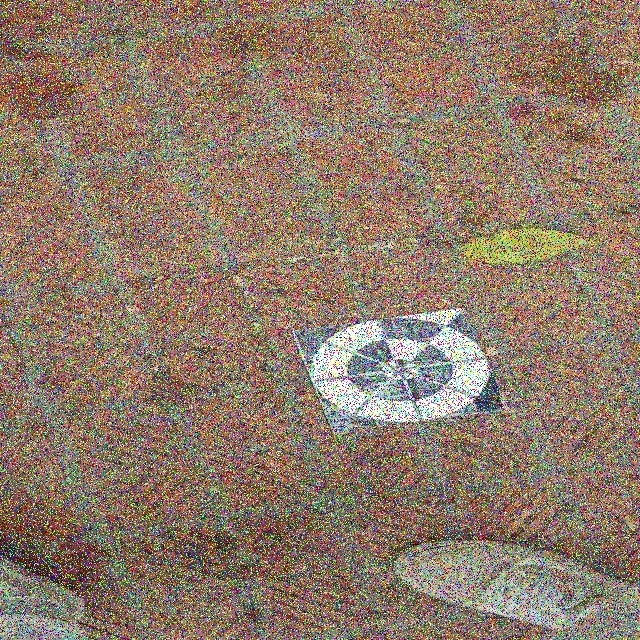landing-zone: (291, 303, 509, 437)
